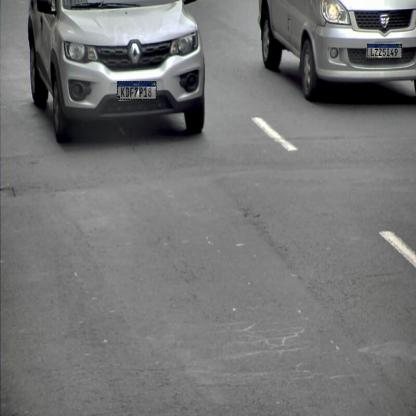PlacaM: (117, 81, 157, 100), (367, 44, 402, 58)
